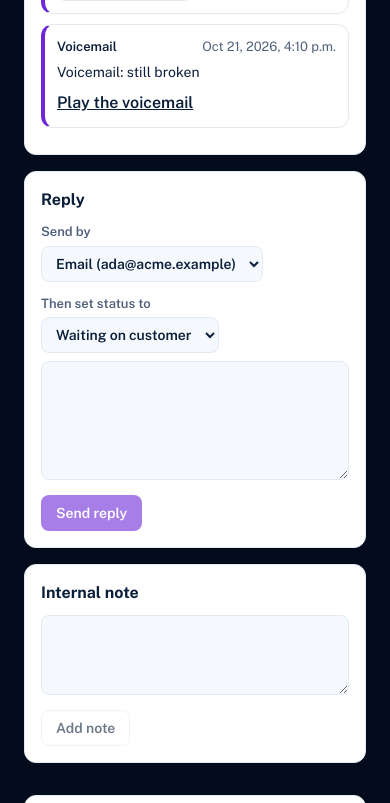
Scenario: a Keystone support ticket › shows why a reply could not be sent
(page scrolled)
Type "Hello" into the text box named "Reply".
click(195, 420); type("Hello")  # box [41,361,349,480]
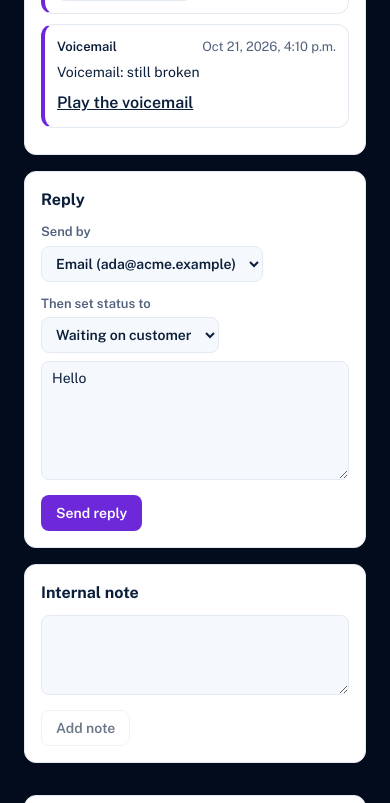
Click the button with test id "ks-send-reply".
click(92, 513)  # box [41,495,142,531]
(page scrolled)
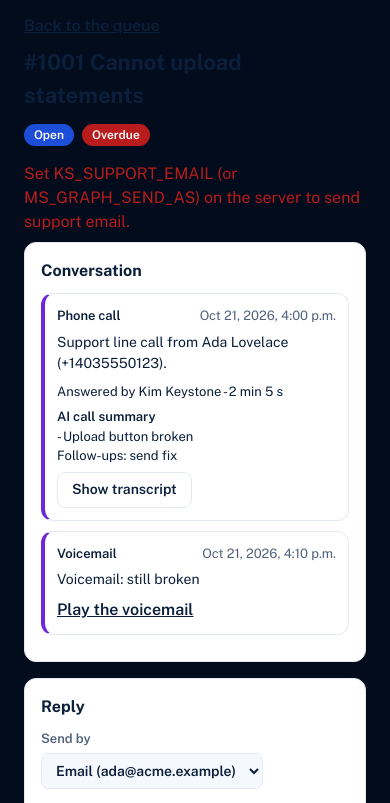
Expected: the message shows "Set KS_SUPPORT_EMAIL", [24,164,360,231]
